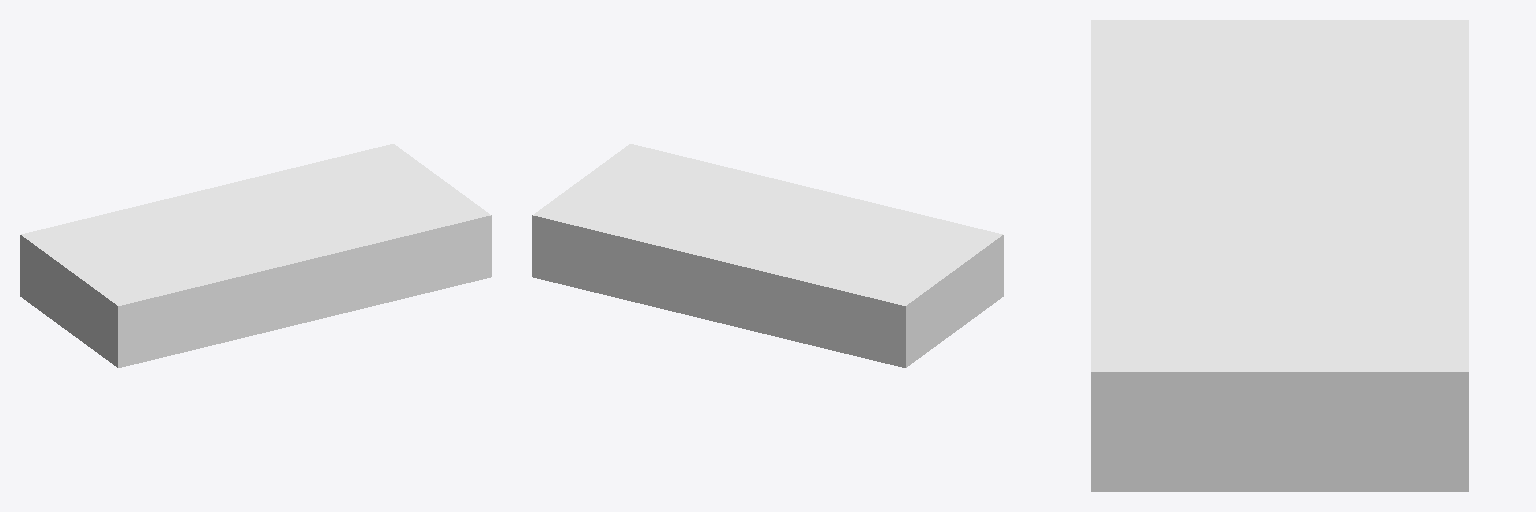
robot.urdf — cube.urdf:
<?xml version="0.0" ?>
<robot name="cube.urdf">
  <link name="baseLink">
    <contact>
      <lateral_friction value="0.3"/>
      <stiffness value="10000.0"/>
    </contact>
    <inertial>
      <origin rpy="0 0 0" xyz="6.9389E-18 0 -6.9389E-18"/>
       <mass value="0.00616"/>
       <inertia ixx="2.3049E-07" ixy="-1.2104E-22" ixz="2.946E-24" iyy="1.019E-06" iyz="-9.936E-24" izz="1.1991E-06"/>
    </inertial>
    <visual>
      <origin rpy="0 0 0" xyz="0 0 0"/>
      <geometry>
            <mesh filename="duomi.STL" scale="1 1 1"/>
      </geometry>
       <material name="white">
        <color rgba="1 1 1 1"/>
      </material>
    </visual>
    <collision>
      <origin rpy="0 0 0" xyz="0 0 0"/>
      <geometry>
	 	<mesh filename="duomi.STL" scale="1 1 1"/>
      </geometry>
    </collision>
  </link>
</robot>

--- Facts derived from the render (not from the file) ---
3 views of the same robot in one strip: view 1: azimuth 30°, elevation 25°; view 2: azimuth 150°, elevation 25°; view 3: azimuth 270°, elevation 25° (orthographic).
Model cube.urdf with 1 links and 0 joints (none), rooted at baseLink, posed all joints at 0.
Links seen in each view (by area): view 1: baseLink; view 2: baseLink; view 3: baseLink.
Boxes of the visible links, x1,y1,x2,y2 form: baseLink: (20, 144, 491, 367); baseLink: (532, 144, 1003, 367); baseLink: (1091, 20, 1468, 491).
Bounding box of the posed robot: 0.044 × 0.02 × 0.007 m (x, y, z).
Meshes: 1 distinct files referenced, 1 mesh visuals loaded (1 binary STL).